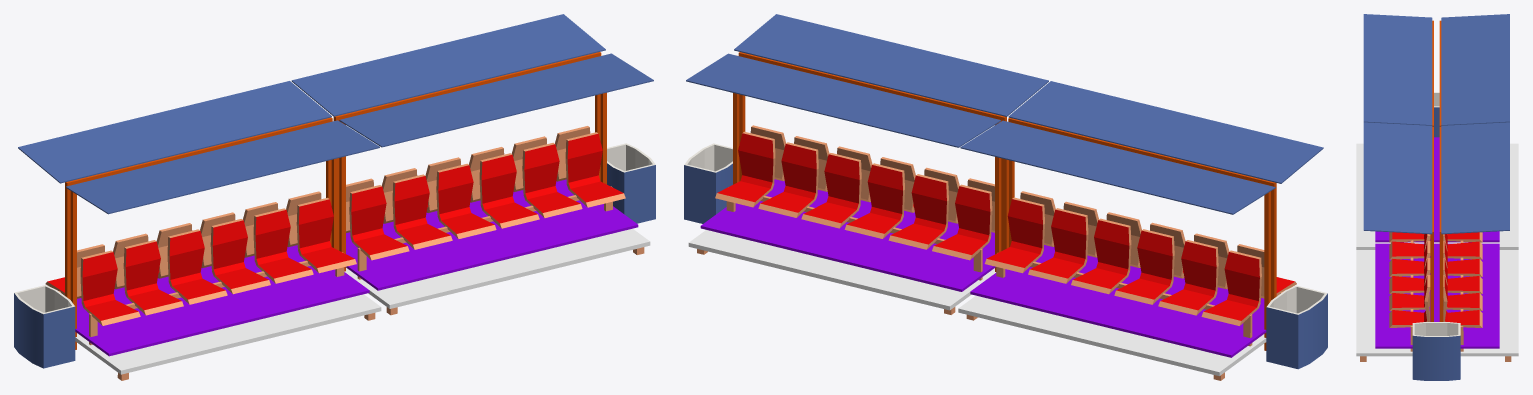
Rendered from Waiting.FBX.
The picture shows the model from 3 angles, left to right: view 1: azimuth 30°, elevation 25°; view 2: azimuth 150°, elevation 25°; view 3: azimuth 270°, elevation 25°; orthographic projection. The views are drawn at different scales.
Visible parts, largest first — view 1: Waiting; view 2: Waiting; view 3: Waiting.
Boxes of the visible parts, <box> form: Waiting: <box>14,14,655,380</box>; Waiting: <box>684,14,1327,380</box>; Waiting: <box>1356,14,1518,380</box>.
Size of the model in its own units: 106 by 27.56 by 29.64.
